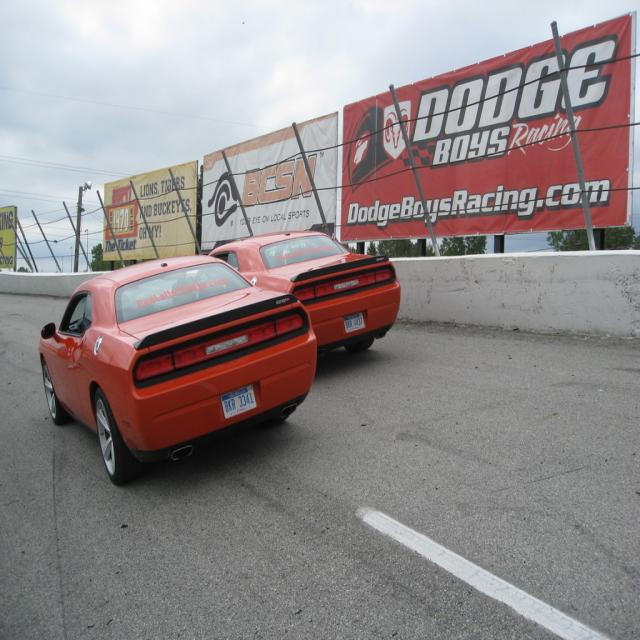car: (42, 248, 325, 483)
